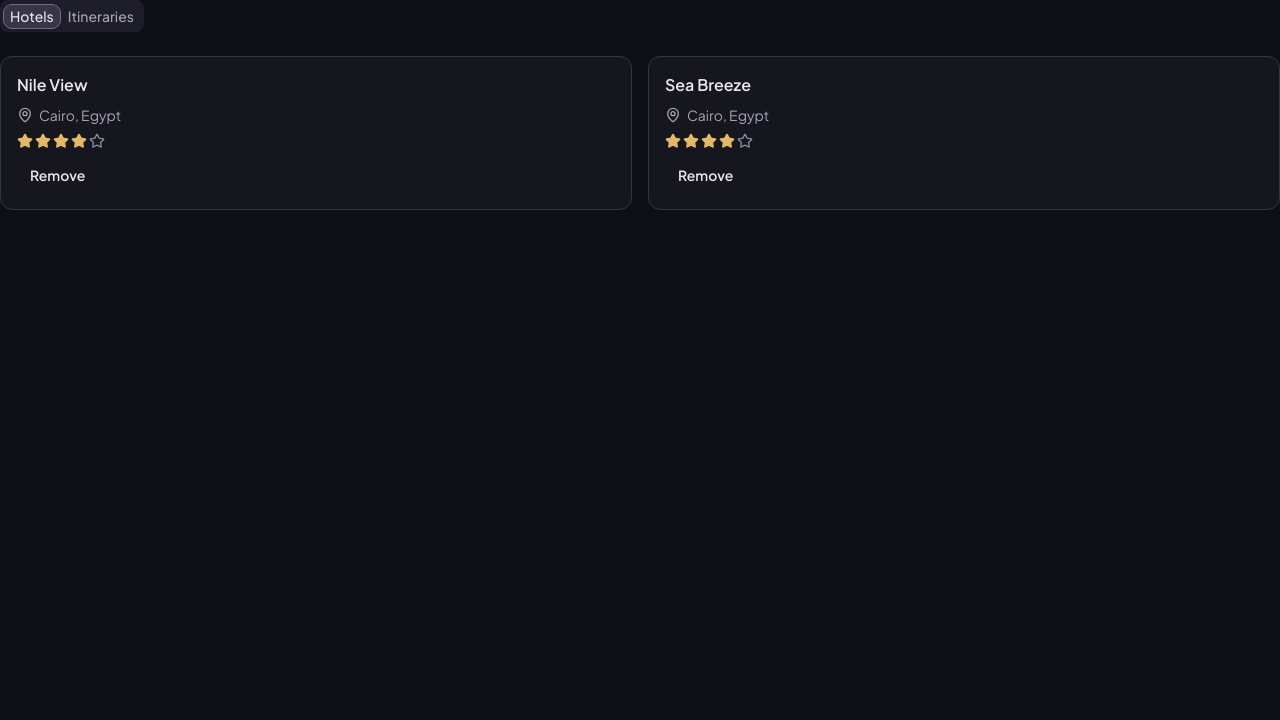
Test: Remove asks first, then deletes the favourite and takes it off the list
Click the button "Remove" below "Nile View" at (58, 175), box [17, 157, 98, 193]
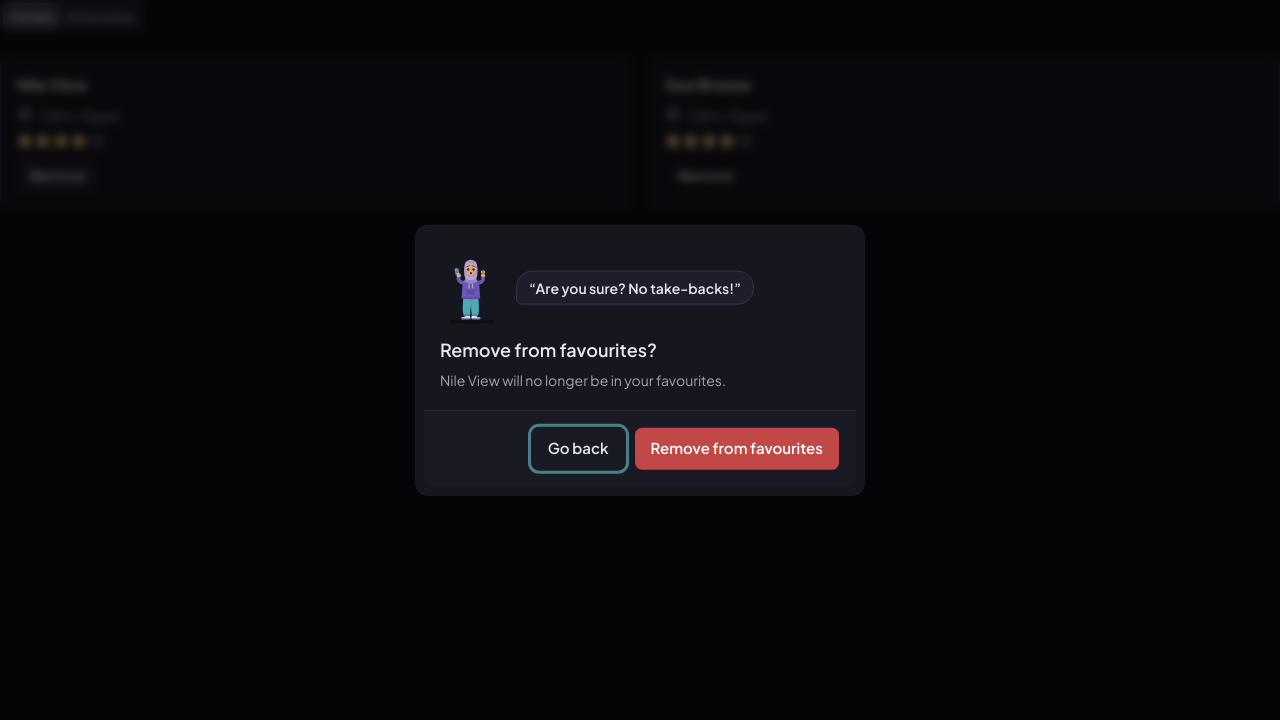
Click the button "Remove from favourites" at (737, 448), box [634, 426, 840, 470]
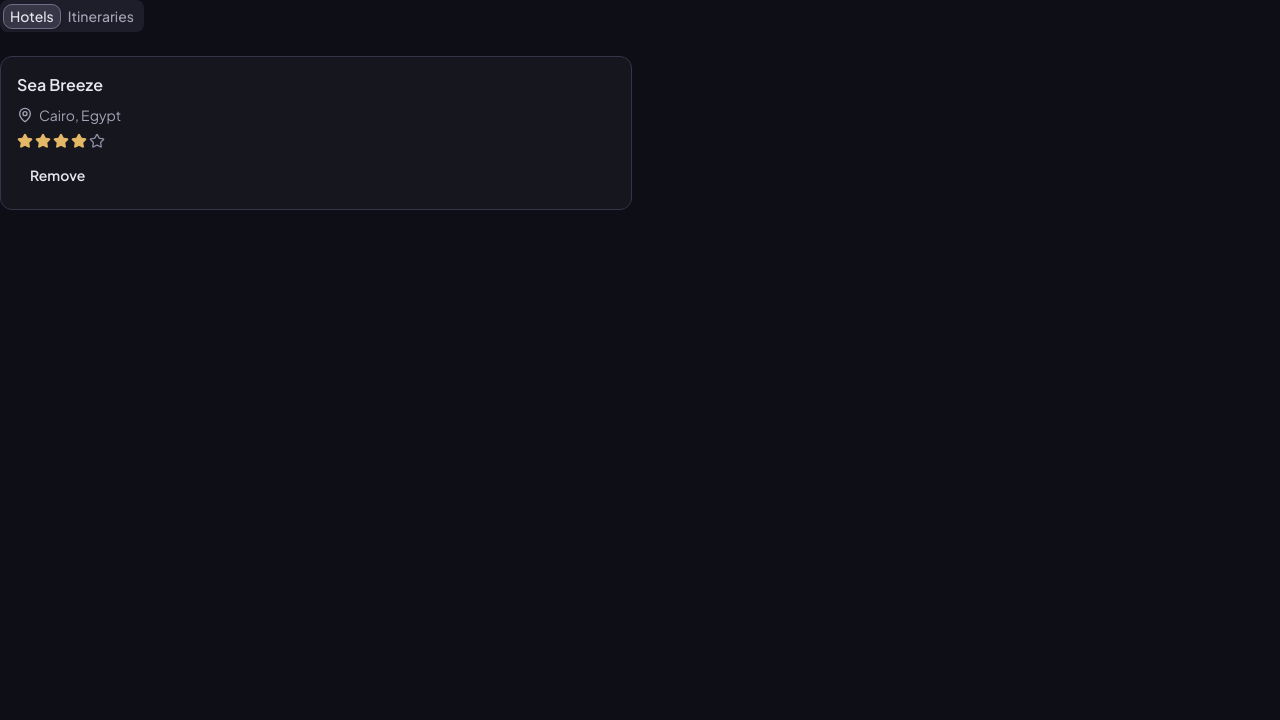
Check: the link "Sea Breeze" is shown, box [17, 74, 103, 95]
Check: the link "Nile View" is gone
